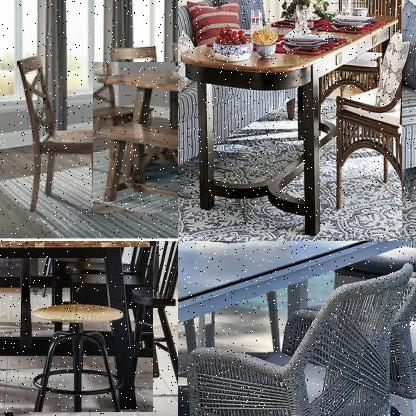table: (178, 0, 403, 238), (178, 241, 415, 415), (0, 241, 154, 414), (91, 62, 177, 215)
